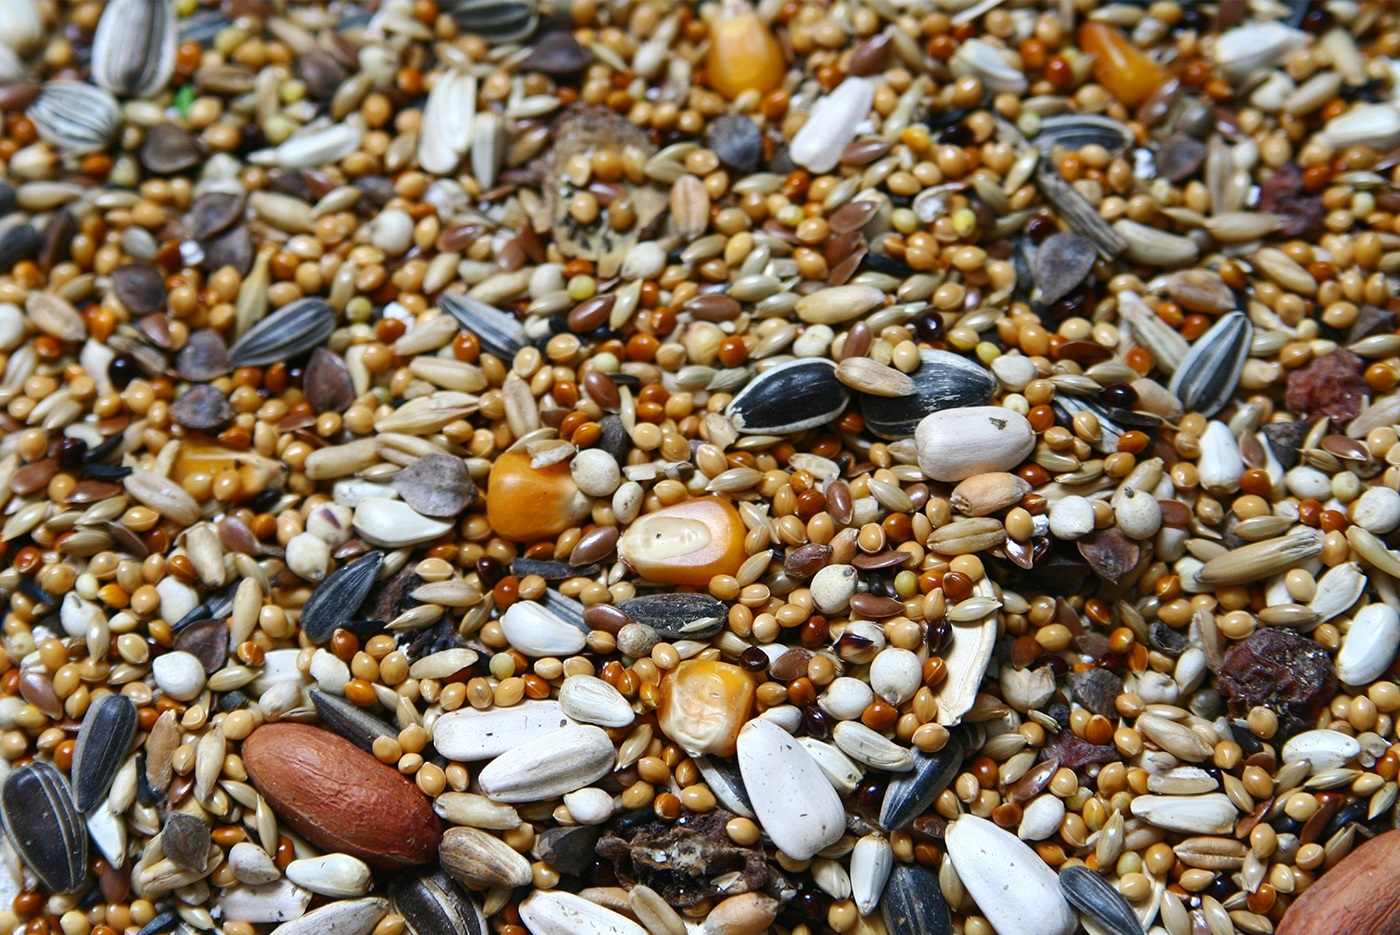seed: (1, 1, 1400, 934)
